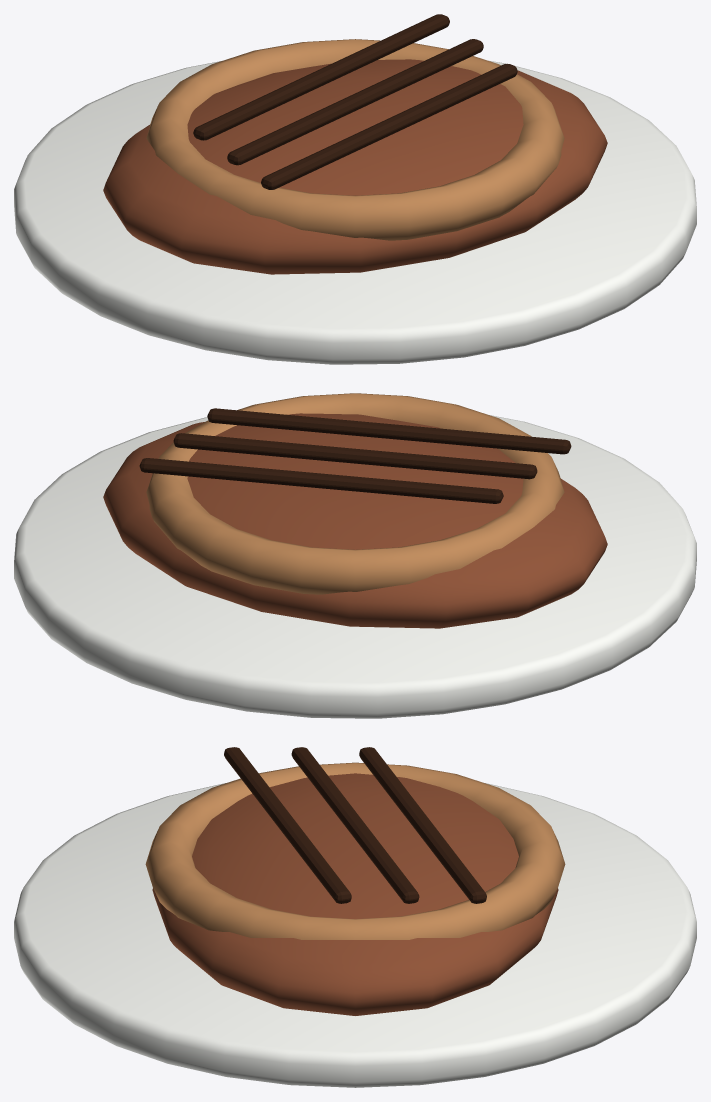
Rendered from IconCookedMeat.fbx.
The picture shows the model from 3 angles, top to bottom: view 1: azimuth 30°, elevation 25°; view 2: azimuth 150°, elevation 25°; view 3: azimuth 270°, elevation 25°; orthographic projection.
Visible parts, largest first — view 1: IconDisc.002, Steak.001, FatRim.001, GrillMark_1, GrillMark_0, GrillMark_-1; view 2: IconDisc.002, Steak.001, FatRim.001, GrillMark_-1, GrillMark_0, GrillMark_1; view 3: IconDisc.002, Steak.001, FatRim.001, GrillMark_-1, GrillMark_0, GrillMark_1.
Part boxes in pixels (x1,y1,x2,y2): IconDisc.002: (14,60,696,364); Steak.001: (103,59,607,274); FatRim.001: (146,39,564,240); GrillMark_1: (193,14,449,140); GrillMark_0: (227,39,483,165); GrillMark_-1: (261,63,517,189); IconDisc.002: (14,415,696,718); Steak.001: (103,413,607,628); FatRim.001: (146,393,564,594); GrillMark_-1: (207,408,571,454); GrillMark_0: (173,433,537,479); GrillMark_1: (139,458,503,503); IconDisc.002: (14,783,696,1087); Steak.001: (152,773,558,1015); FatRim.001: (145,762,565,939); GrillMark_-1: (224,747,351,903); GrillMark_0: (291,747,419,903); GrillMark_1: (359,747,486,903).
Bounding box in the file's own units: 96 × 19.9 × 96.
